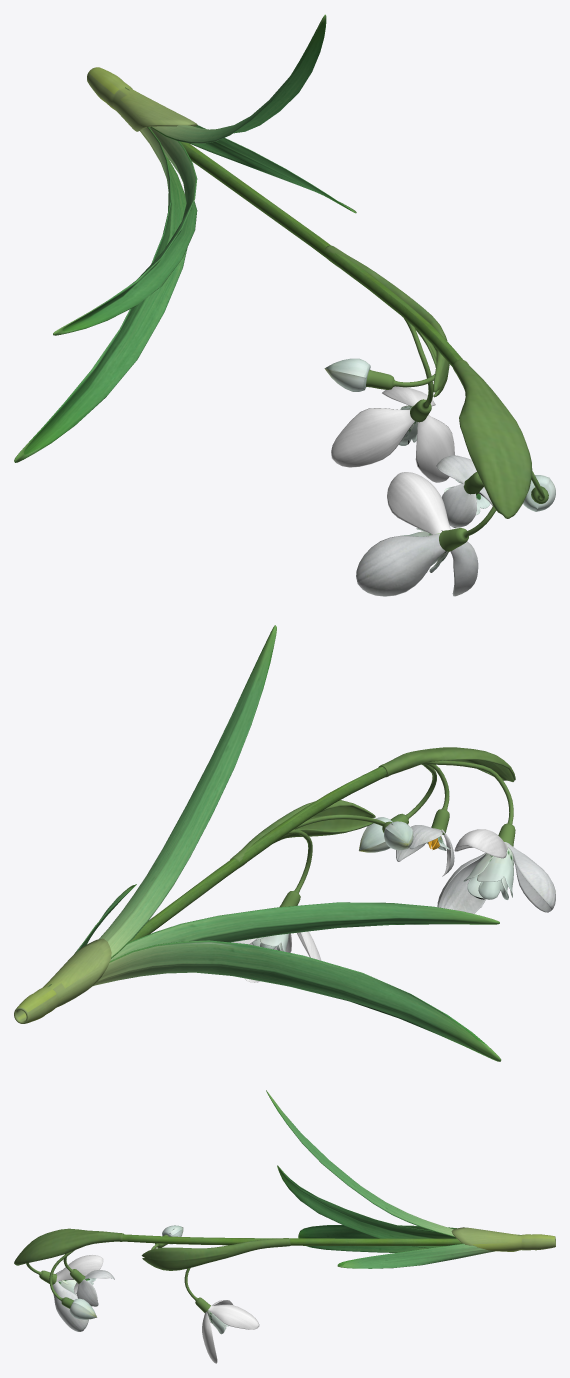
Rendered from 12970_snowdrop_flower_v1_l2.obj.
3 views of the same model, one above another, from view 1: azimuth 30°, elevation 25°; view 2: azimuth 150°, elevation 25°; view 3: azimuth 270°, elevation 25° (orthographic). The views are drawn at different scales.
Parts seen in each view (by area): view 1: snowdrop_flower_petals, snowdrop_flower_leafes, snowdrop_flower_stem, snowdrop_flower_leaves; view 2: snowdrop_flower_leafes, snowdrop_flower_stem, snowdrop_flower_petals, snowdrop_flower_leaves; view 3: snowdrop_flower_leafes, snowdrop_flower_stem, snowdrop_flower_petals, snowdrop_flower_leaves.
Boxes of the visible parts, <box> form: snowdrop_flower_petals: <box>324,358,555,596</box>; snowdrop_flower_leafes: <box>14,14,356,462</box>; snowdrop_flower_stem: <box>180,141,548,551</box>; snowdrop_flower_leaves: <box>87,67,197,131</box>; snowdrop_flower_leafes: <box>48,625,501,1061</box>; snowdrop_flower_stem: <box>129,747,515,942</box>; snowdrop_flower_petals: <box>231,817,555,982</box>; snowdrop_flower_leaves: <box>14,938,111,1023</box>; snowdrop_flower_leafes: <box>266,1090,521,1268</box>; snowdrop_flower_stem: <box>14,1228,462,1312</box>; snowdrop_flower_petals: <box>52,1225,259,1363</box>; snowdrop_flower_leaves: <box>451,1227,555,1251</box>.
Size of the model in its own units: 3.82 by 4.34 by 8.41.
5 materials, 4 textured.
